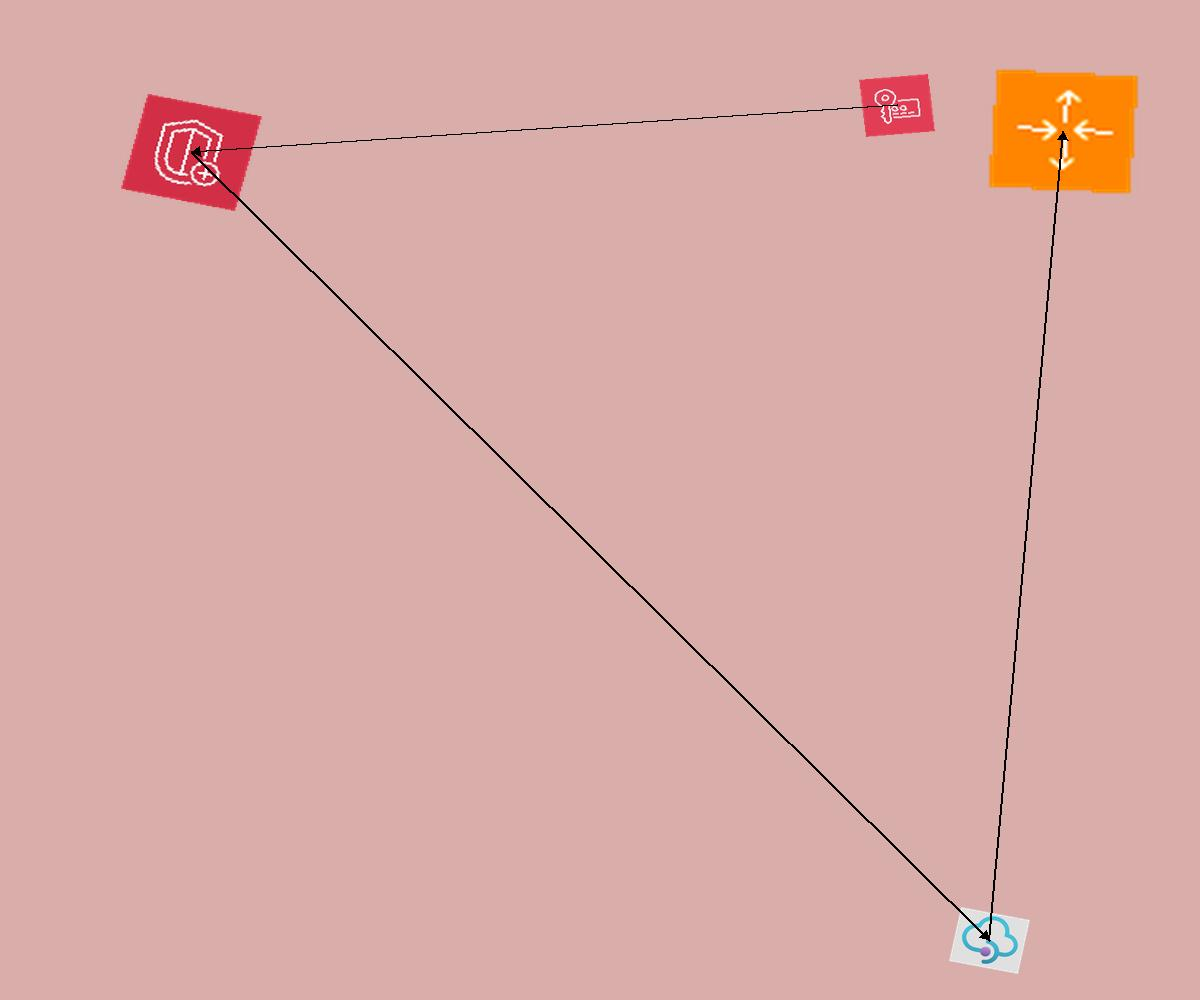AWS-Key-Management-Service: (859, 74, 935, 137)
AWS-Scaling-group: (986, 67, 1141, 196)
AWS-Shield: (120, 93, 263, 212)
Azure_api_gateway: (949, 907, 1030, 974)
